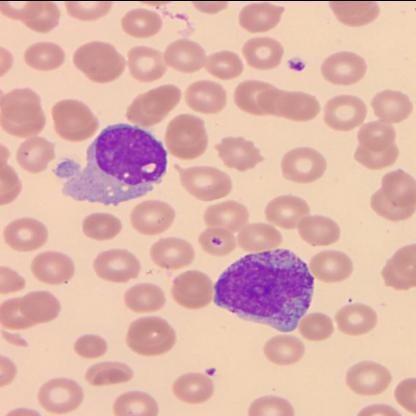Promyelocyte: (56, 121, 169, 204), (216, 248, 316, 330)
